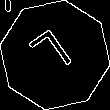L_SE: (28, 26, 82, 84)
